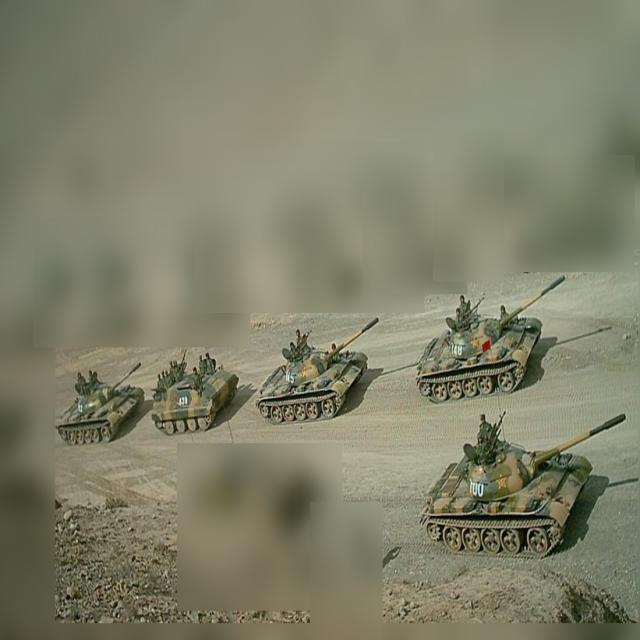tank: (417, 413, 629, 561), (414, 273, 564, 405), (257, 316, 384, 426), (56, 362, 146, 446), (152, 354, 239, 434)
